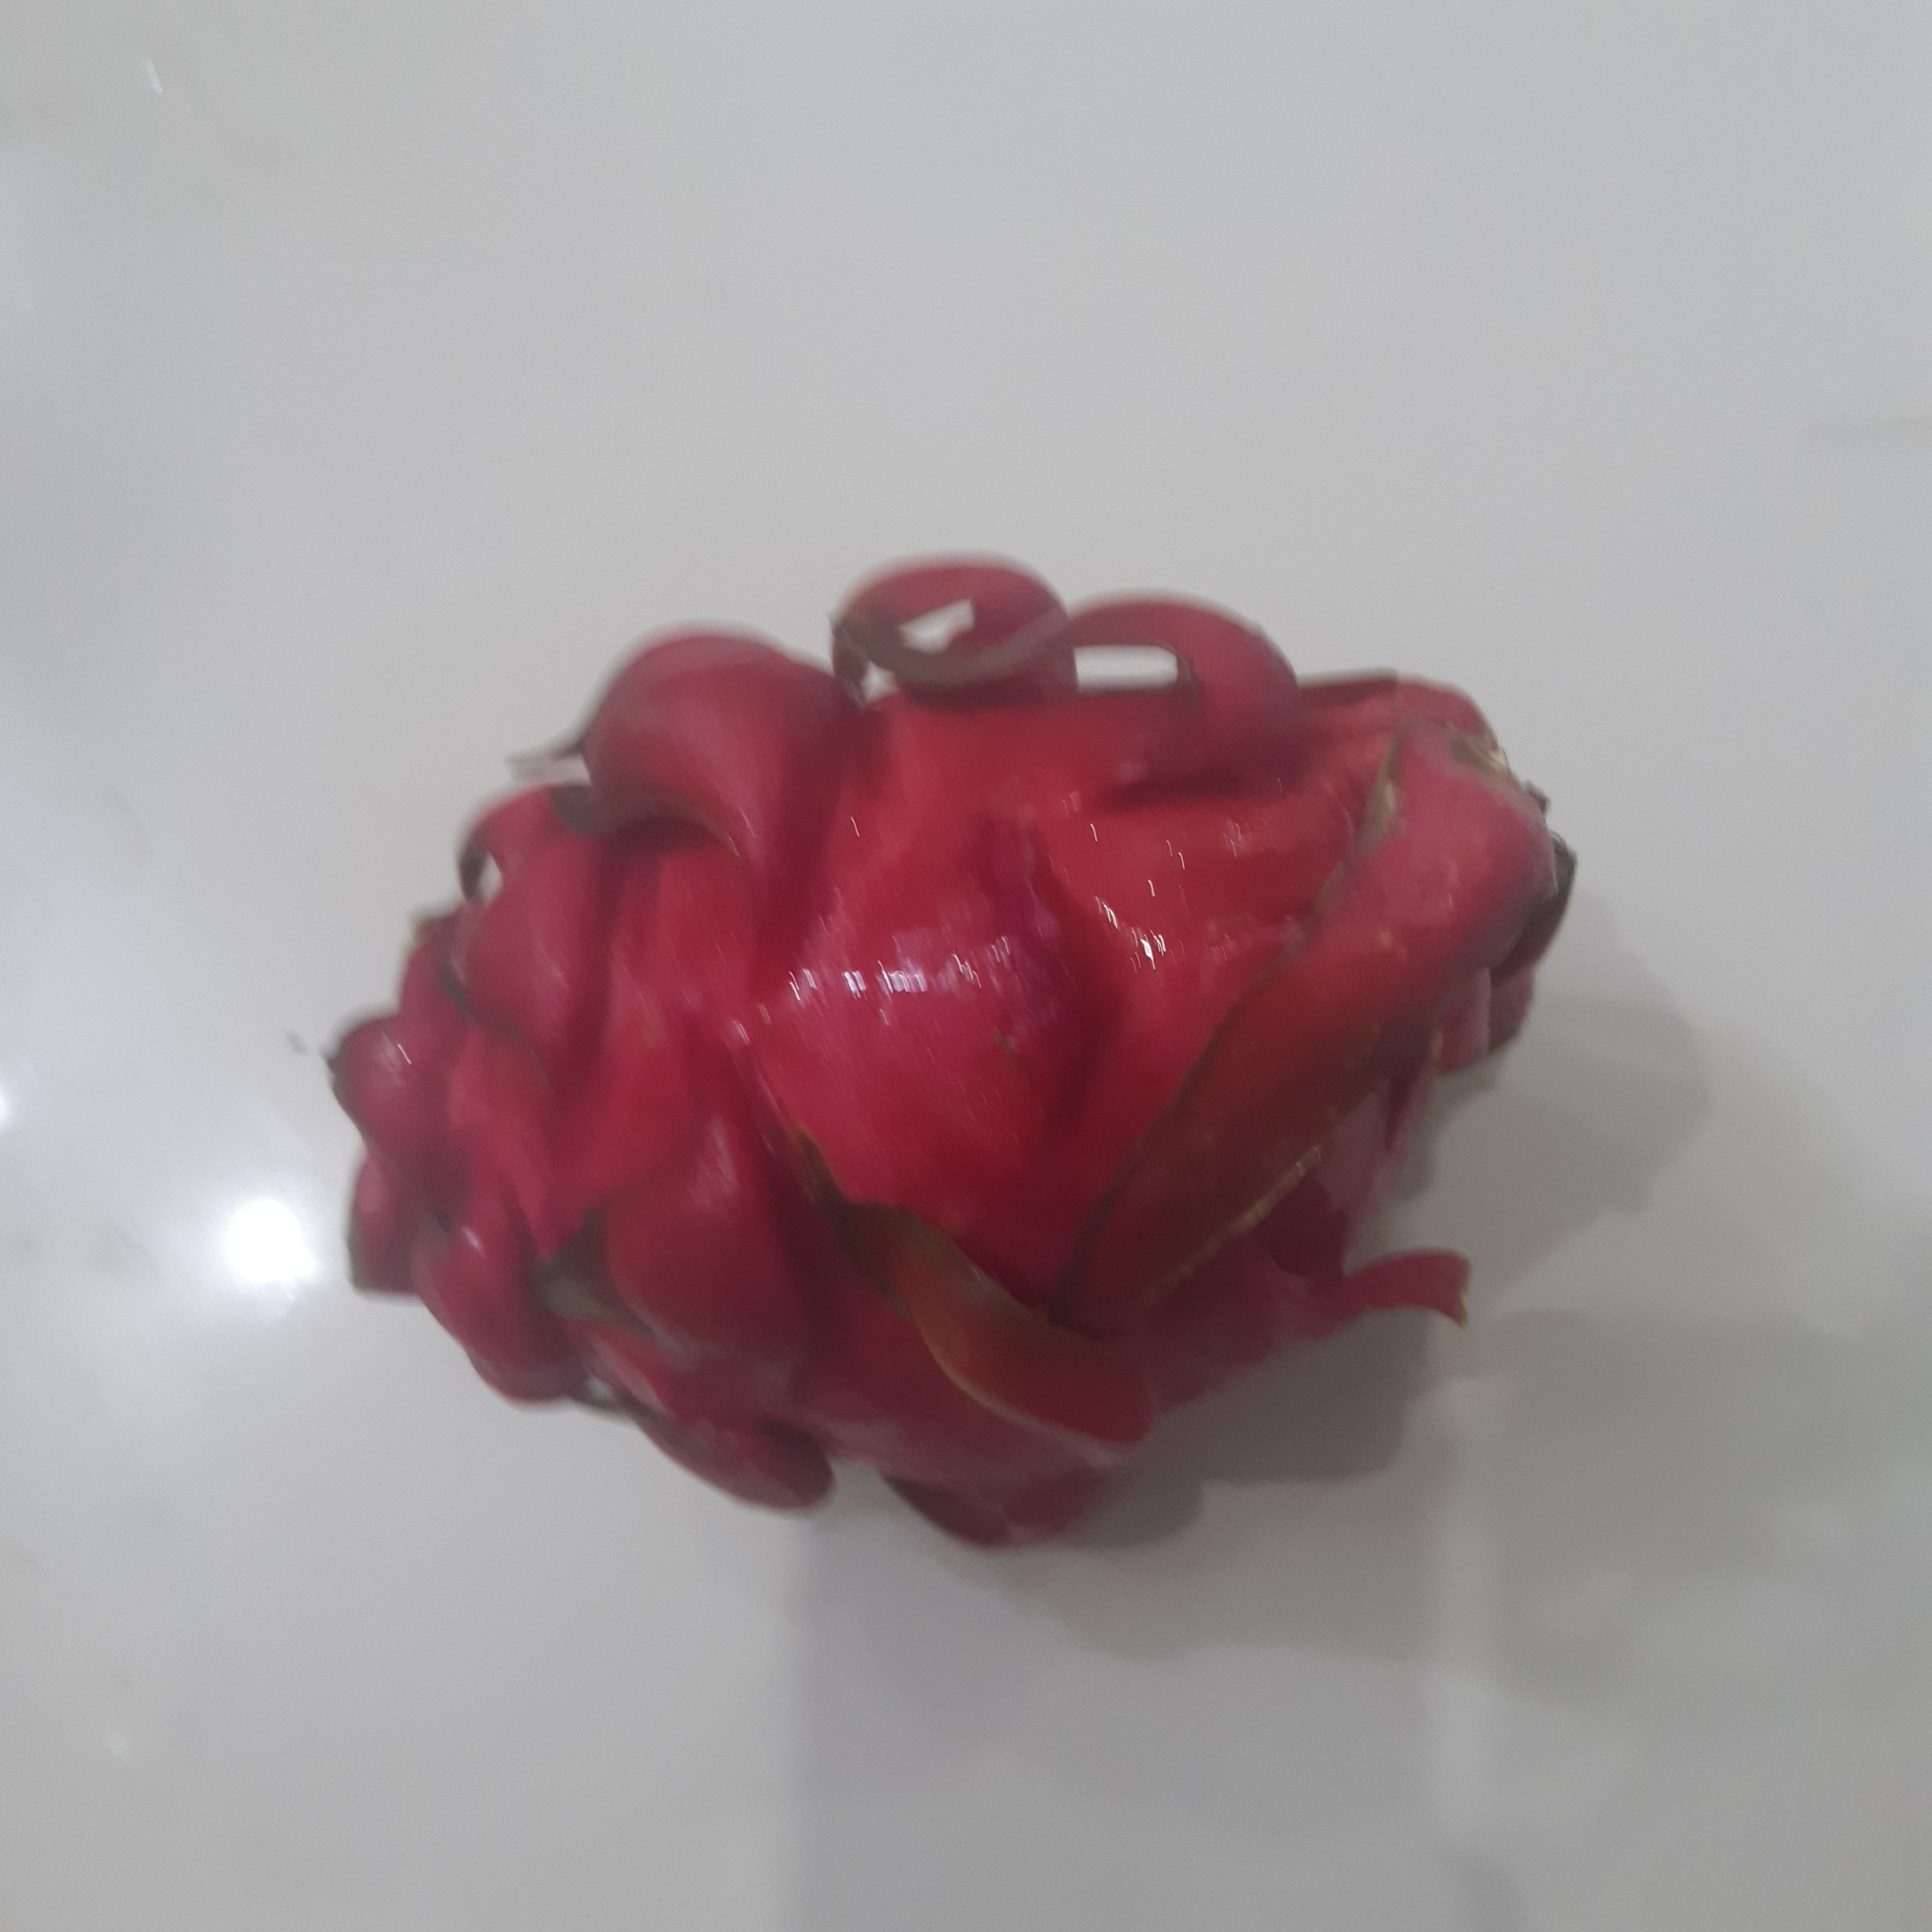Thanh long: (333, 614, 1569, 1488)
